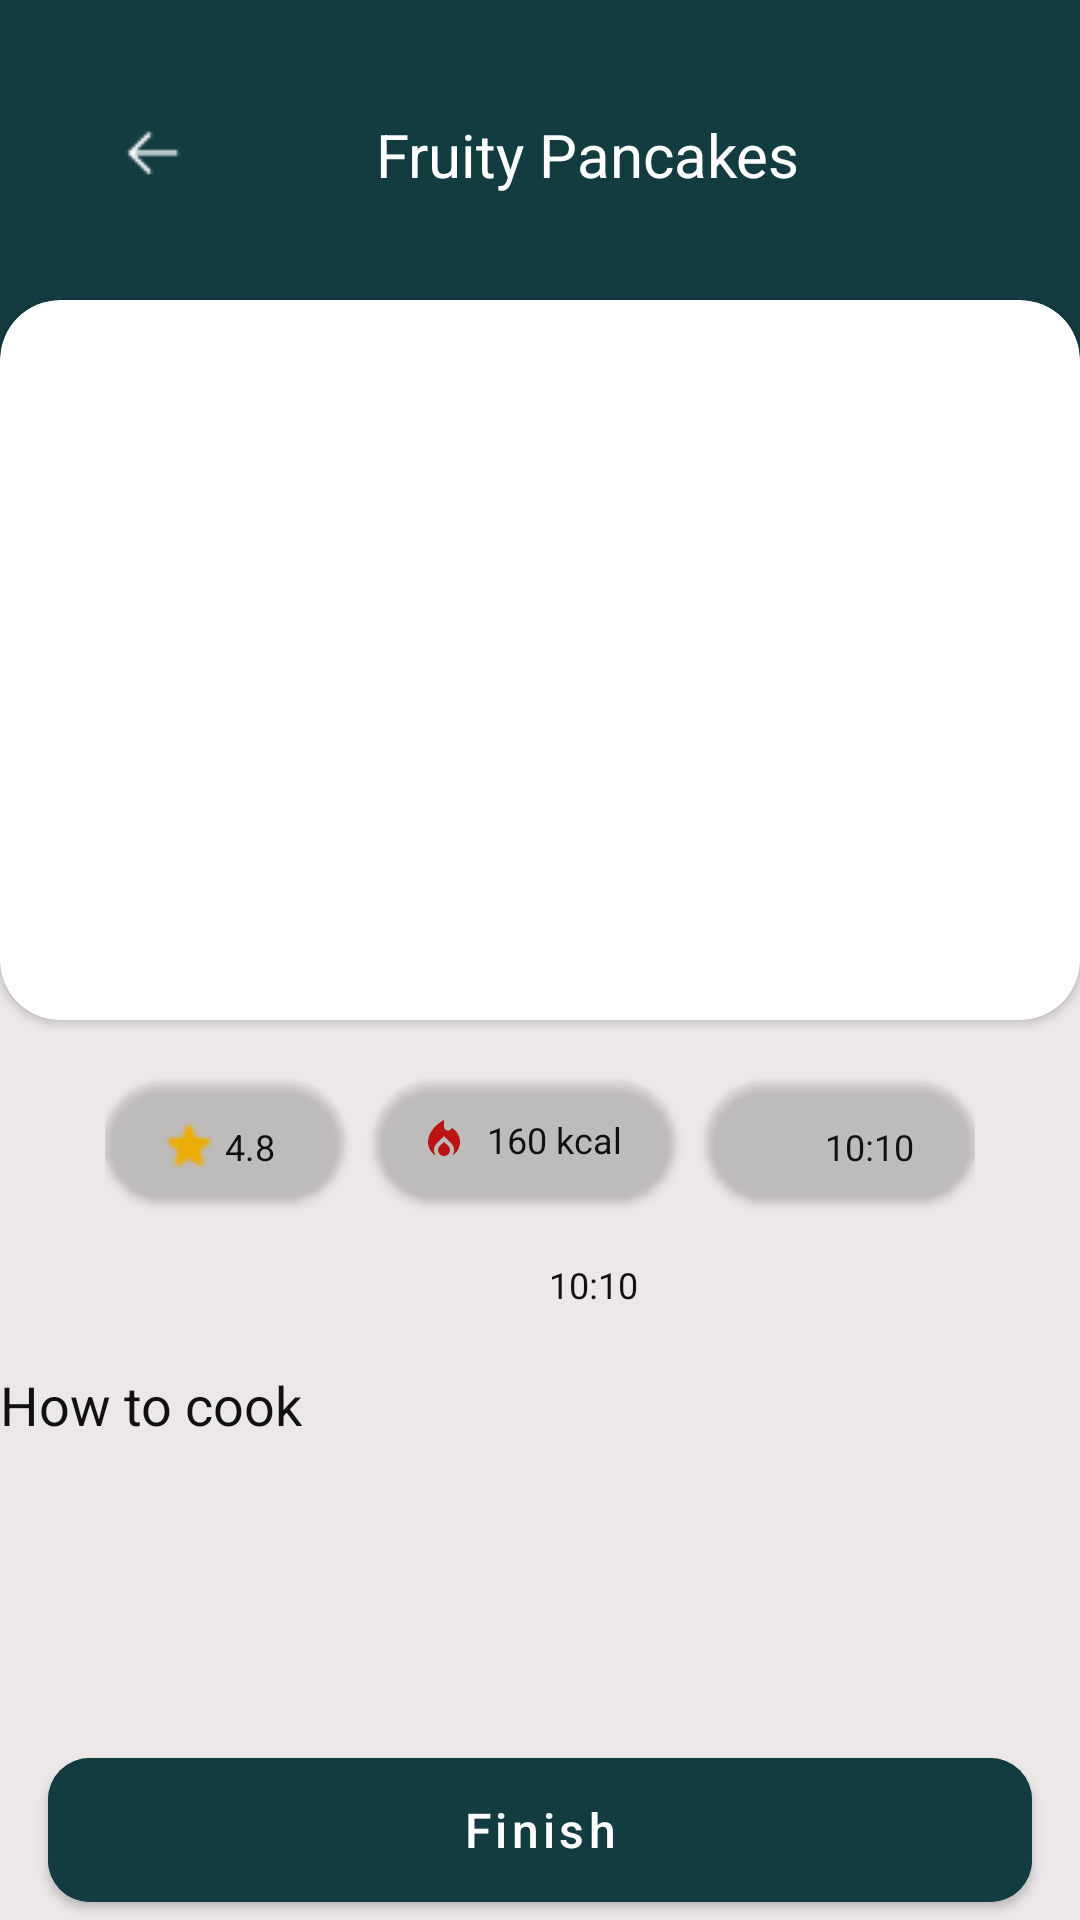

Screen size 1080px x 1920px. Icon name, then its center in pixels as (x=x, y=y):
back: (x=153, y=153)
fire: (x=444, y=1138)
star: (x=190, y=1145)
